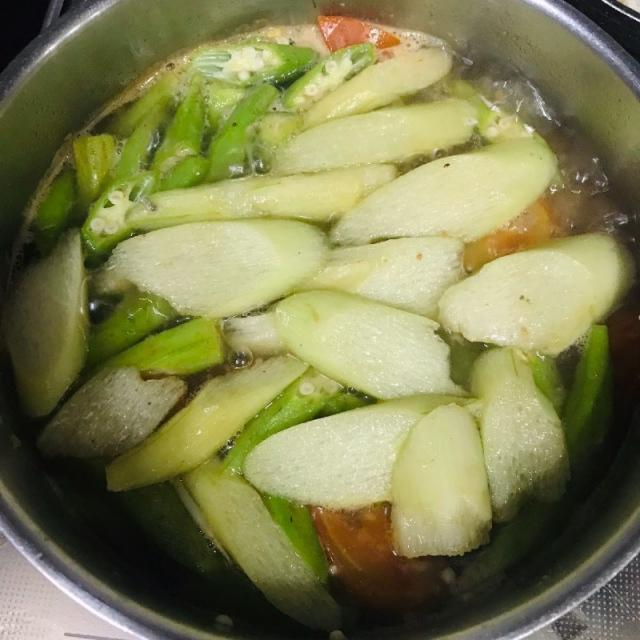canh chua: (4, 18, 629, 629)
